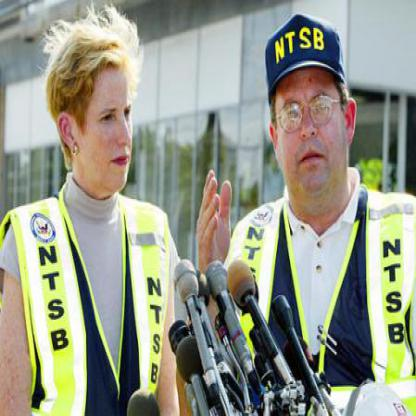face: (275, 33, 348, 200), (74, 37, 138, 197)
